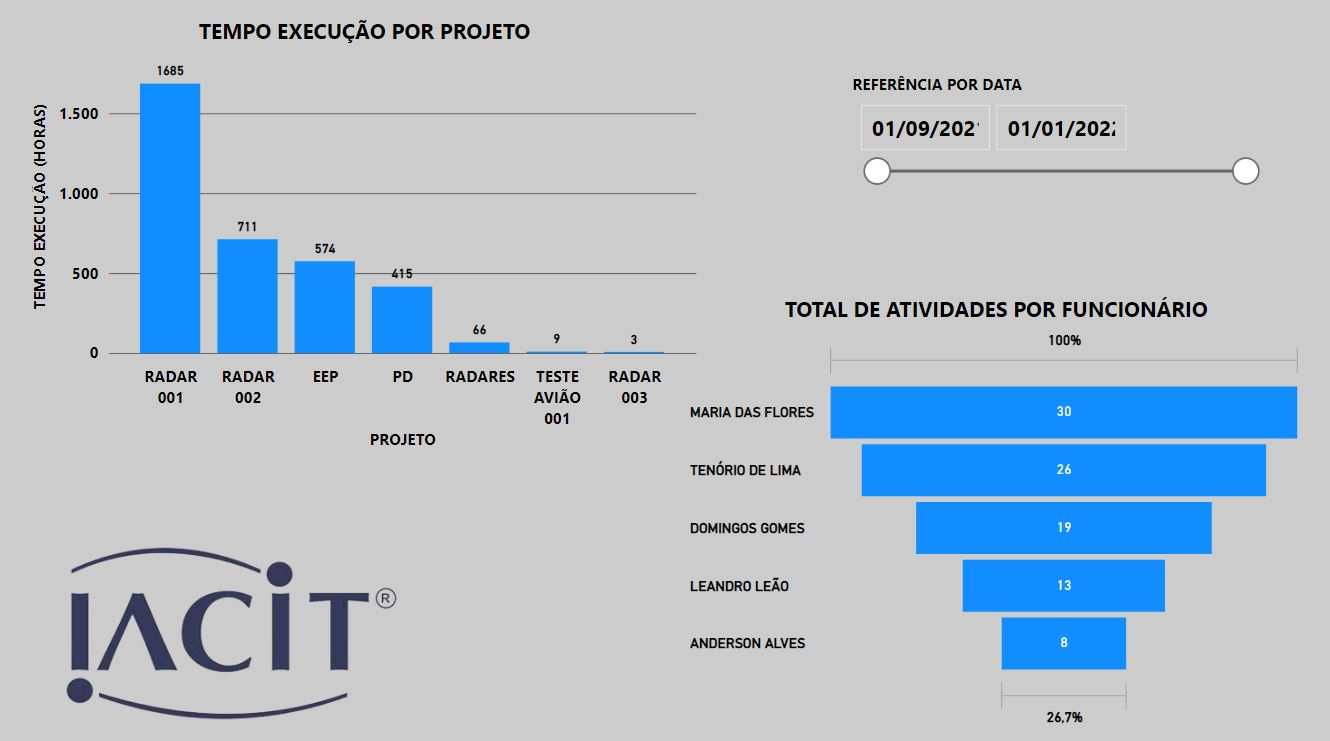

The dashboard page shown, as its layout file describes it:
{"tool":"powerbi","page":{"name":"TEMPO PROJETO x FUNCIONÁRIOS","canvas":[1280,720],"ordinal":0},"visuals":[{"type":"clusteredColumnChart","title":"TEMPO EXECUÇÃO POR PROJETO","fields":{"Category":["CONSOLIDADO ATIVIDADES.PROJETO"],"Y":["Sum(CONSOLIDADO ATIVIDADES.HORAS)"]},"box":[32.8,21.5,642.7,416.7],"z":0},{"type":"slicer","title":"REFERÊNCIA POR DATA","fields":{"Values":["CONSOLIDADO ATIVIDADES.MÊS"]},"box":[813.1,75.8,400.3,141.4],"z":1000},{"type":"image","box":[0,495.7,453.6,224.3],"z":2000},{"type":"funnel","title":"TOTAL DE ATIVIDADES POR FUNCIONÁRIO","fields":{"Category":["CONSOLIDADO ATIVIDADES.FUNCIONÁRIO"],"Y":["CountNonNull(CONSOLIDADO ATIVIDADES.PROJETO)"]},"box":[658,286.3,593.6,417.6],"z":3000}]}

Visuals, with their boxes in screenshot pixels (x1, y1, x2, y2), scaled from the page's 1280x720 canvas onto the 1330x741 screenshot:
"TEMPO EXECUÇÃO POR PROJETO" clusteredColumnChart: {"x1": 34, "y1": 22, "x2": 702, "y2": 451}
"REFERÊNCIA POR DATA" slicer: {"x1": 845, "y1": 78, "x2": 1261, "y2": 224}
image: {"x1": 0, "y1": 510, "x2": 471, "y2": 740}
"TOTAL DE ATIVIDADES POR FUNCIONÁRIO" funnel: {"x1": 684, "y1": 295, "x2": 1300, "y2": 724}
